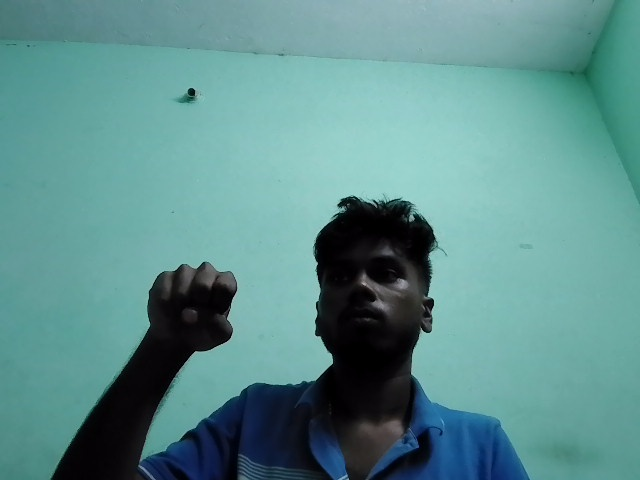Yes: (117, 238, 288, 380)
